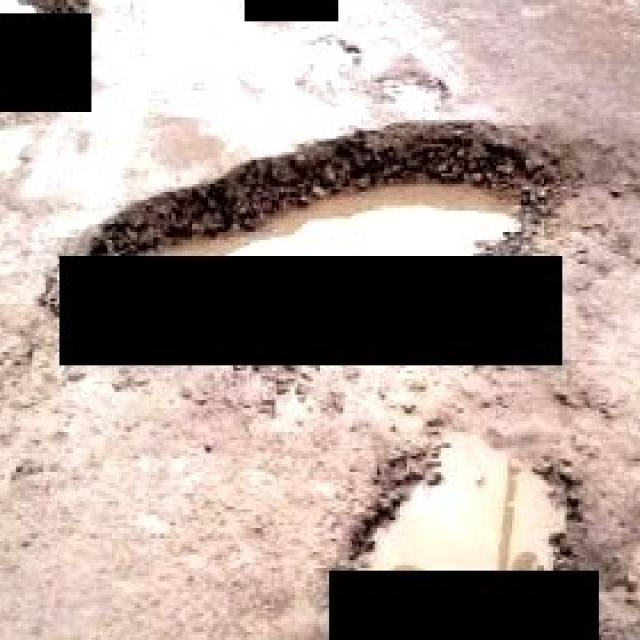road-pothole: (83, 118, 567, 258), (348, 417, 586, 569)
